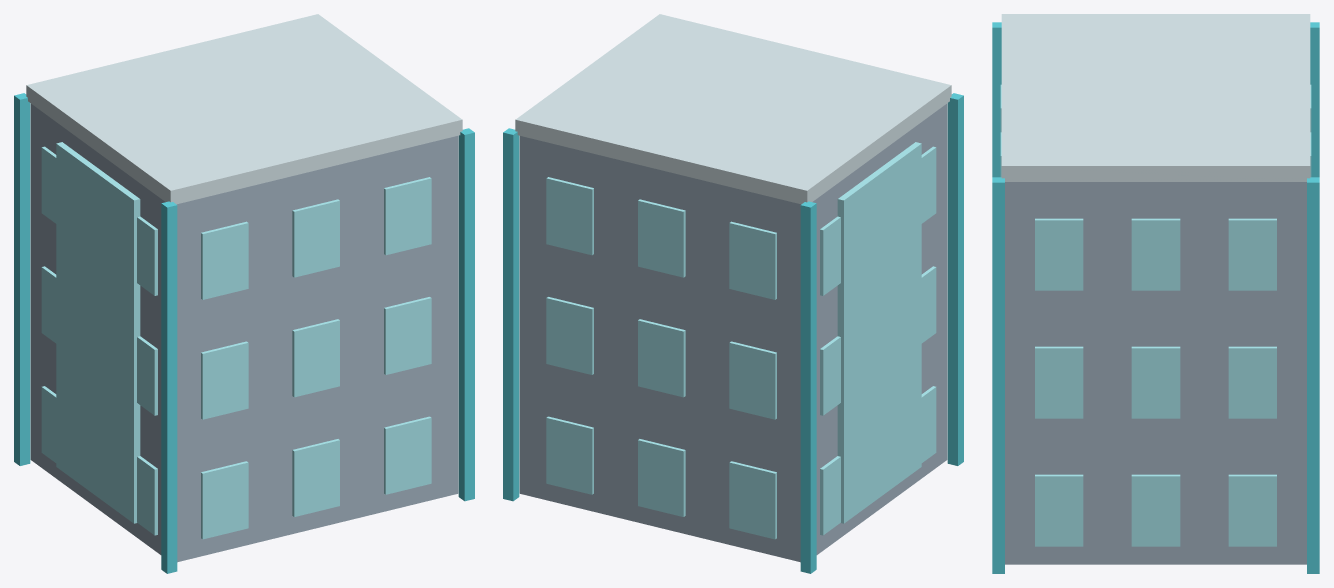
The model's file is residential_c.glb.
3 renders of one model, left to right at view 1: azimuth 30°, elevation 25°; view 2: azimuth 150°, elevation 25°; view 3: azimuth 270°, elevation 25°, orthographic. The views are drawn at different scales.
Bounding box in the file's own units: 7.53 × 8.84 × 6.49.
